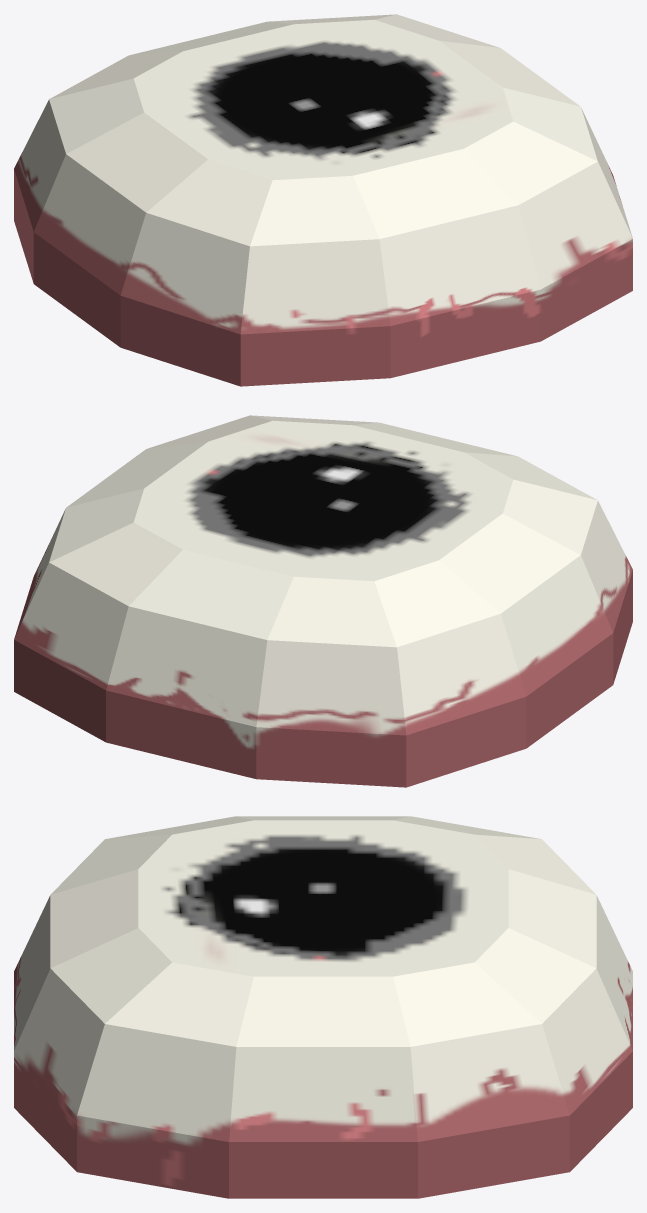
The model's file is eye.fbx.
3 views of the same model, one above another, from view 1: azimuth 30°, elevation 25°; view 2: azimuth 150°, elevation 25°; view 3: azimuth 270°, elevation 25° (orthographic). The views are drawn at different scales.
Visible parts, largest first — view 1: Cube; view 2: Cube; view 3: Cube.
Part boxes in pixels (left/top/right/bottom): Cube: left=14, top=14, right=632, bottom=386; Cube: left=14, top=415, right=632, bottom=787; Cube: left=14, top=816, right=632, bottom=1198.
Size of the model in its own units: 5 by 1.51 by 5.
